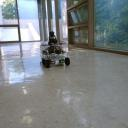cart: (40, 45, 70, 68)
